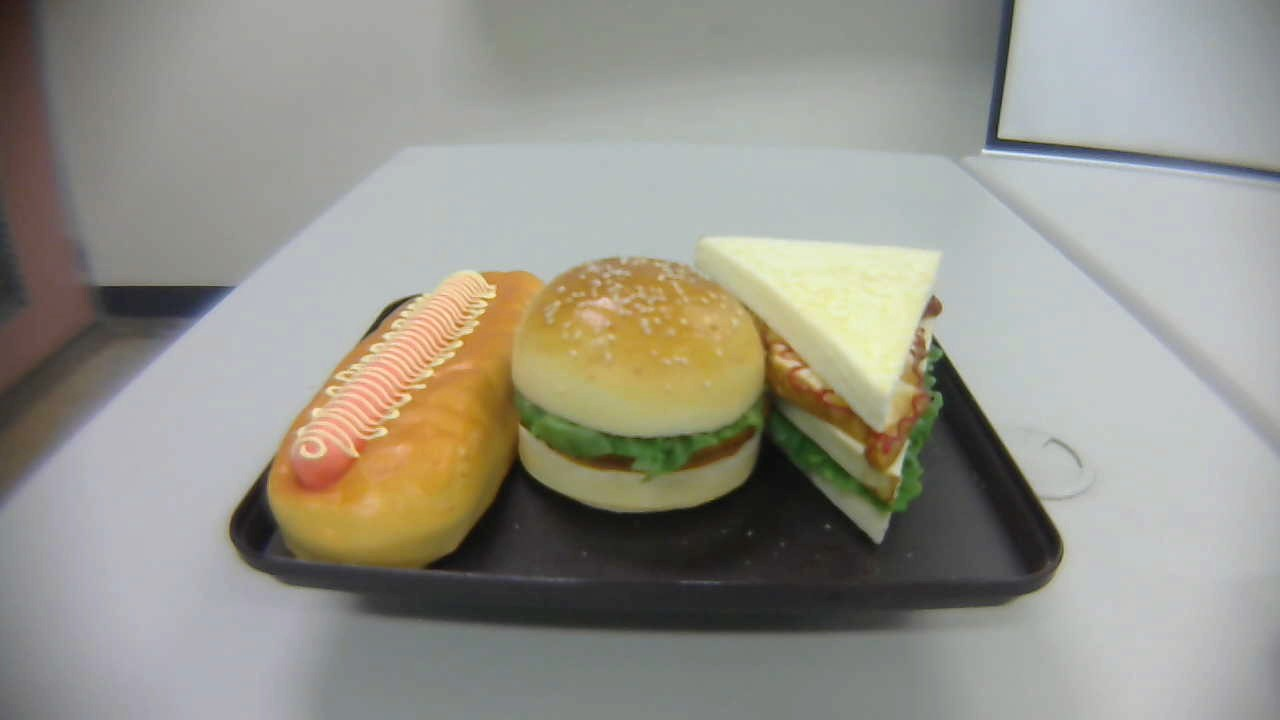hamburger: (512, 256, 767, 517)
hot dog: (267, 269, 550, 570)
sandwich: (699, 232, 950, 549)
